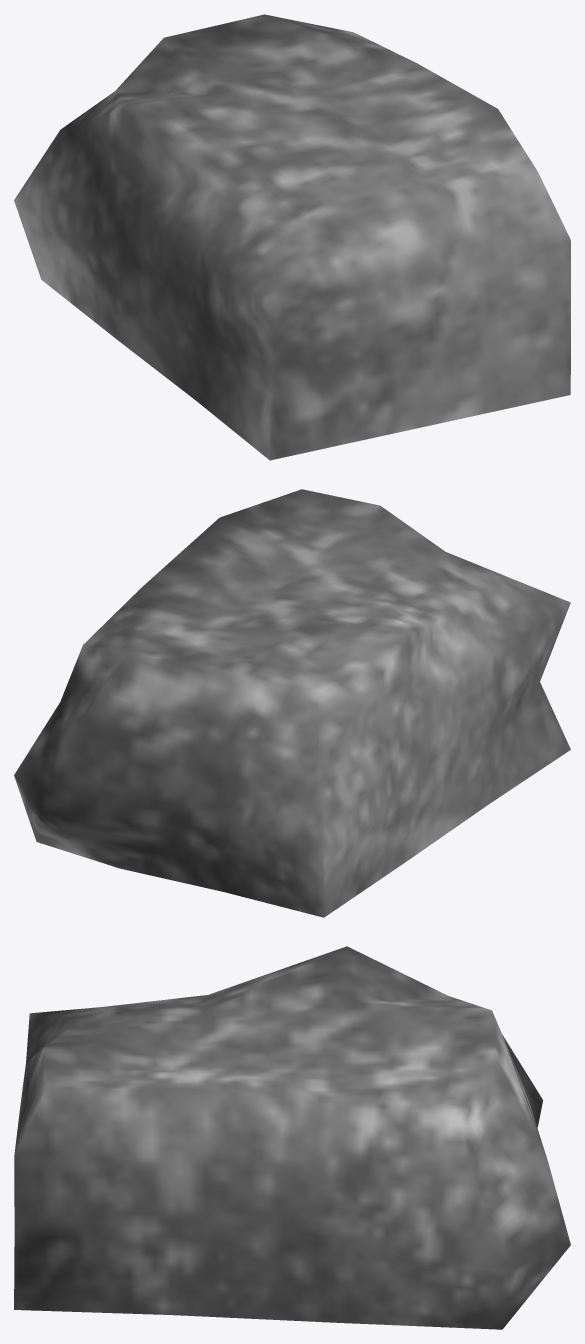
File: Small stone 2.fbx
3 renders of one model, top to bottom at view 1: azimuth 30°, elevation 25°; view 2: azimuth 150°, elevation 25°; view 3: azimuth 270°, elevation 25°, orthographic. The views are drawn at different scales.
Parts seen in each view (by area): view 1: Small stone 2; view 2: Small stone 2; view 3: Small stone 2.
Part boxes in pixels (x1,y1,x2,y2): Small stone 2: (14,14,570,460); Small stone 2: (14,489,570,917); Small stone 2: (14,946,570,1329).
Bounding box in the file's own units: 0.0848 × 0.0553 × 0.1195.
